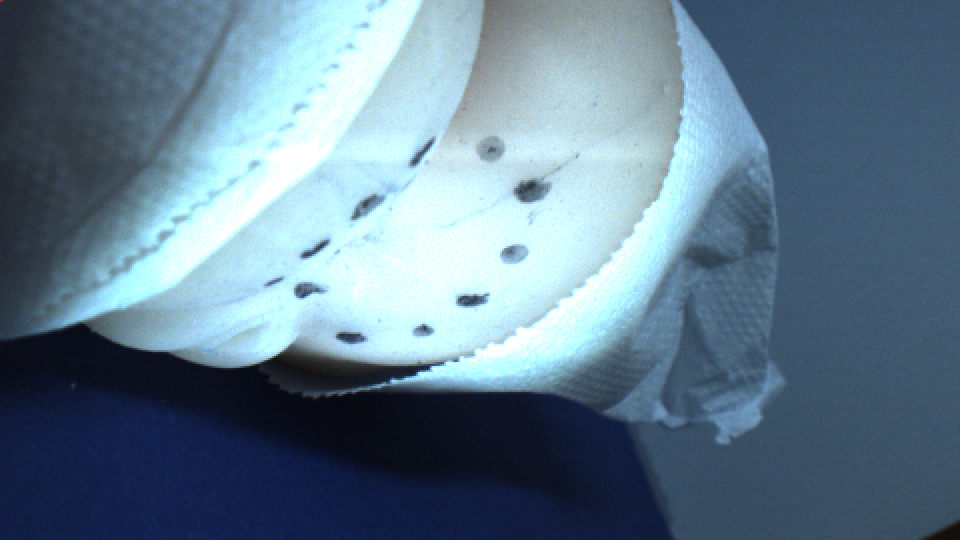asarp_marker: (405, 122, 442, 169), (510, 177, 566, 207), (449, 287, 497, 315), (347, 194, 391, 224), (499, 234, 536, 269), (288, 276, 340, 300), (478, 126, 509, 165), (327, 324, 375, 345), (299, 237, 332, 262), (407, 318, 435, 343)
